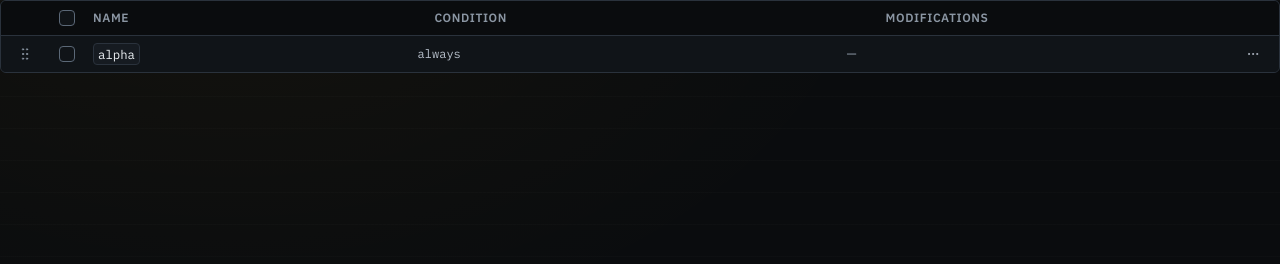
it: RulesTreeTable › row-actions kebab + right-click menu + details drawer › kebab exists per row and lists View details / Add rule above / below / child / page items in order
Click the button named "row actions".
click(1253, 54)  # box [1239,40,1267,68]
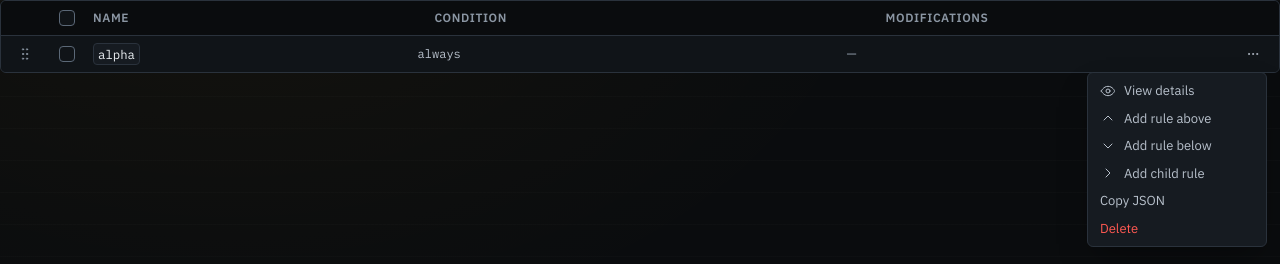
Expected: the menu items read "View details", "Add rule above", "Add rule below", "Add child rule", "Copy JSON", "Delete", in this order, [1100,82,1195,99]; [1100,110,1212,126]; [1100,137,1212,154]; [1100,164,1205,182]; [1100,192,1165,209]; [1100,220,1138,236]
